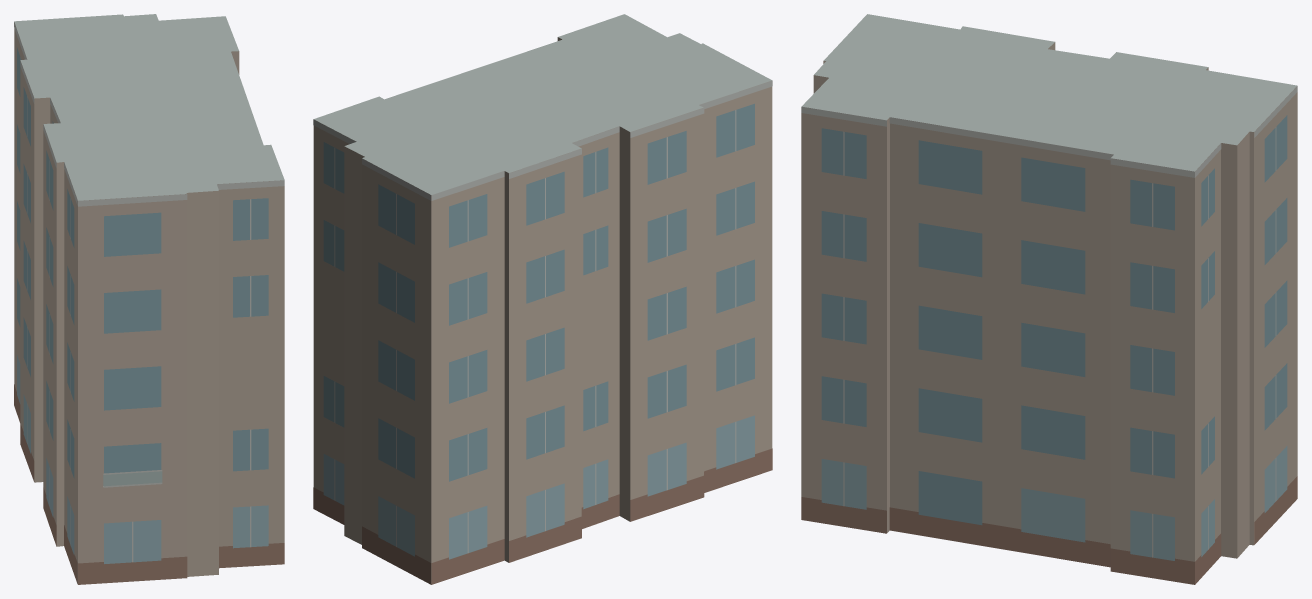
Rendered from survey-upis-32519444.glb.
3 renders of one model, left to right at view 1: azimuth 30°, elevation 25°; view 2: azimuth 150°, elevation 25°; view 3: azimuth 270°, elevation 25°, orthographic. The views are drawn at different scales.
Parts seen in each view (by area): view 1: survey-upis-32519444.tmp; view 2: survey-upis-32519444.tmp; view 3: survey-upis-32519444.tmp.
Part boxes in pixels (x1,y1,x2,y2): survey-upis-32519444.tmp: [14, 14, 284, 584]; survey-upis-32519444.tmp: [313, 14, 772, 584]; survey-upis-32519444.tmp: [801, 14, 1297, 584].
Size of the model in its own units: 12.98 by 15.86 by 17.26.
